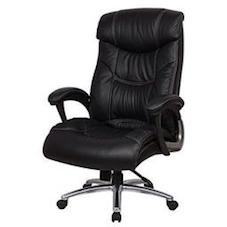chair: (46, 0, 195, 226)
